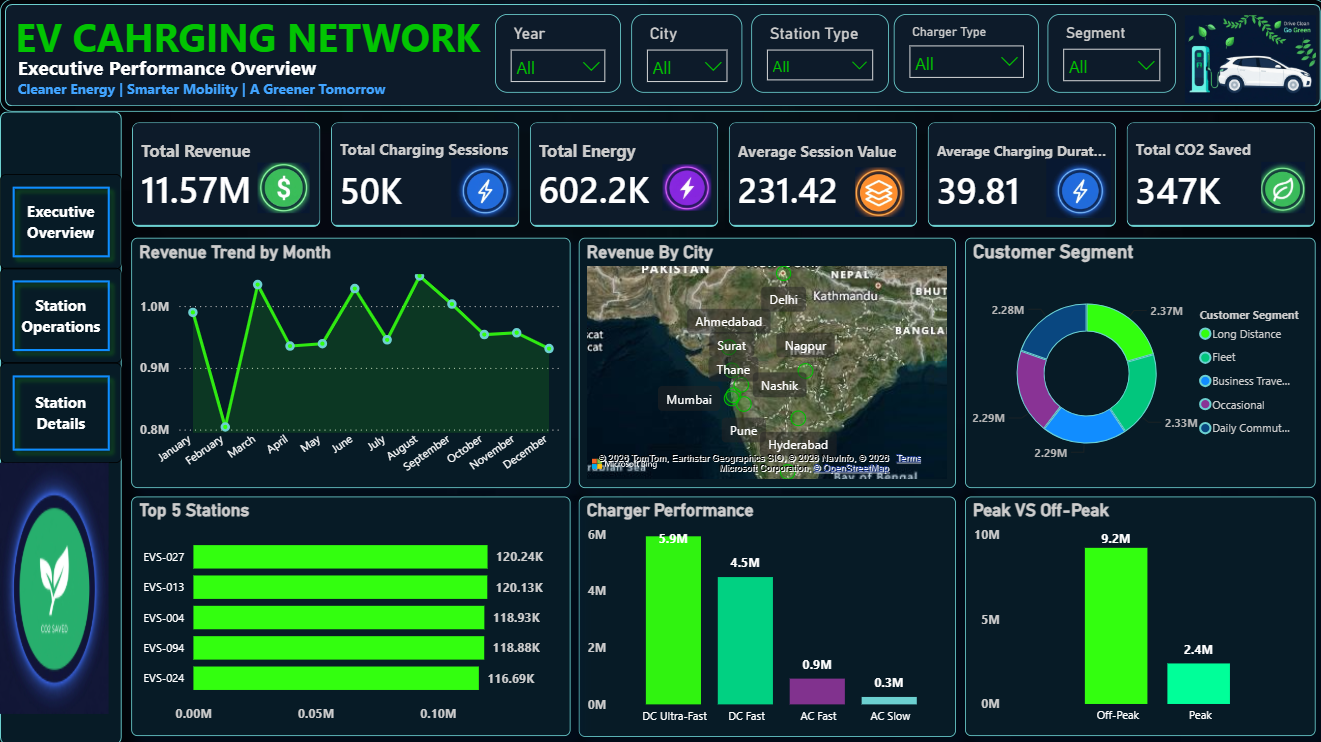

What the dashboard file says about the page in this screenshot:
{"tool":"powerbi","page":{"name":"EXECUTIVE PERFORMANCE OVERVIEW","canvas":[1280,720],"ordinal":0},"visuals":[{"type":"shape","box":[0,108.8,117.5,611.2],"z":0},{"type":"shape","box":[0,0,1280,108.8],"z":1000},{"type":"textbox","box":[10,6.2,528.8,66.2],"z":2000},{"type":"textbox","box":[12.5,48.8,507.5,35],"z":3000},{"type":"textbox","box":[12.5,72.5,376.2,36.2],"z":4000},{"type":"cardVisual","fields":{"Data":["EV Sessions.Total Revenue","EV Sessions.Total Charging Sessions","EV Sessions.Total Energy","EV Sessions.Average Session Value","EV Sessions.Average Charging Duration","EV Sessions.Total CO2 Saved"]},"box":[117,108.6,1162.2,121.6],"z":5000},{"type":"areaChart","title":" Revenue Trend by Month","fields":{"Category":["EV Sessions.Session Start.Variation.Date Hierarchy.Month"],"Y":["EV Sessions.Total Revenue"]},"box":[126.2,230,423.8,241.2],"z":6000},{"type":"map","title":" Revenue By City","fields":{"Category":["EV Sessions.City"],"Size":["EV Sessions.Total Revenue"]},"box":[558.8,230,363.8,241.2],"z":7000},{"type":"donutChart","title":"Customer Segment","fields":{"Category":["EV Sessions.Customer Segment"],"Y":["EV Sessions.Total Revenue"]},"box":[931.2,230,338.8,241.2],"z":8000},{"type":"clusteredColumnChart","title":"Charger Performance","fields":{"Category":["EV Sessions.Charger Type"],"Y":["EV Sessions.Total Revenue"]},"box":[558.6,480.2,364.3,231.6],"z":9000},{"type":"clusteredColumnChart","title":"Peak VS Off-Peak","fields":{"Category":["EV Sessions.Peak Flag"],"Y":["EV Sessions.Total Revenue"]},"box":[931.2,480,338.8,231.2],"z":10000},{"type":"clusteredBarChart","title":"Top 5 Stations","fields":{"Category":["EV Sessions.Station ID"],"Y":["EV Sessions.Total Revenue"]},"box":[126.2,480,423.8,231.2],"z":11000},{"type":"slicer","fields":{"Values":["EV Sessions.Year"]},"box":[477.5,15,121.2,76.2],"z":12000},{"type":"slicer","fields":{"Values":["EV Sessions.City"]},"box":[608.8,15,107.5,76.2],"z":13000},{"type":"slicer","fields":{"Values":["EV Sessions.Station Type"]},"box":[725,15,132.5,76.2],"z":14000},{"type":"slicer","fields":{"Values":["EV Sessions.Charger Type"]},"box":[862.5,15,140,76.2],"z":15000},{"type":"slicer","fields":{"Values":["EV Sessions.Customer Segment"]},"box":[1011.2,15,123.8,76.2],"z":16000},{"type":"actionButton","box":[0,168.9,117.8,92.2],"z":17000},{"type":"actionButton","box":[0,258.9,117.8,92.2],"z":18000},{"type":"actionButton","box":[0,351.1,117.8,96.7],"z":19000},{"type":"image","box":[1134.4,15.6,145.6,84.4],"z":20000},{"type":"image","box":[248.5,133.9,50.7,96.5],"z":21000},{"type":"image","box":[435.5,133.9,62.7,96.5],"z":22000},{"type":"image","box":[639.4,133.9,47.1,96.5],"z":23000},{"type":"image","box":[825.2,142.4,48.3,88.1],"z":24000},{"type":"image","box":[1020.6,152,44.6,71.2],"z":25000},{"type":"image","box":[1009.8,133.9,62.7,96.5],"z":26000},{"type":"image","box":[1217.3,146,42.2,72.4],"z":27000},{"type":"image","box":[0,447.6,105,242.5],"z":27001}]}

Visuals, with their boxes in screenshot pixels (x1, y1, x2, y2), scaled from the page's 1280x720 canvas onto the 1321x742 screenshot:
shape: box(0, 112, 121, 741)
shape: box(0, 0, 1320, 112)
textbox: box(10, 6, 556, 75)
textbox: box(13, 50, 537, 86)
textbox: box(13, 75, 401, 112)
cardVisual - EV Sessions.Total Revenue x EV Sessions.Total Charging Sessions: box(121, 112, 1320, 237)
" Revenue Trend by Month" areaChart: box(130, 237, 568, 486)
" Revenue By City" map: box(577, 237, 952, 486)
"Customer Segment" donutChart: box(961, 237, 1311, 486)
"Charger Performance" clusteredColumnChart: box(576, 495, 952, 734)
"Peak VS Off-Peak" clusteredColumnChart: box(961, 495, 1311, 733)
"Top 5 Stations" clusteredBarChart: box(130, 495, 568, 733)
slicer - EV Sessions.Year: box(493, 15, 618, 94)
slicer - EV Sessions.City: box(628, 15, 739, 94)
slicer - EV Sessions.Station Type: box(748, 15, 885, 94)
slicer - EV Sessions.Charger Type: box(890, 15, 1035, 94)
slicer - EV Sessions.Customer Segment: box(1044, 15, 1171, 94)
actionButton: box(0, 174, 122, 269)
actionButton: box(0, 267, 122, 362)
actionButton: box(0, 362, 122, 461)
image: box(1171, 16, 1320, 103)
image: box(256, 138, 309, 237)
image: box(449, 138, 514, 237)
image: box(660, 138, 708, 237)
image: box(852, 147, 901, 238)
image: box(1053, 157, 1099, 230)
image: box(1042, 138, 1107, 237)
image: box(1256, 150, 1300, 225)
image: box(0, 461, 108, 711)
